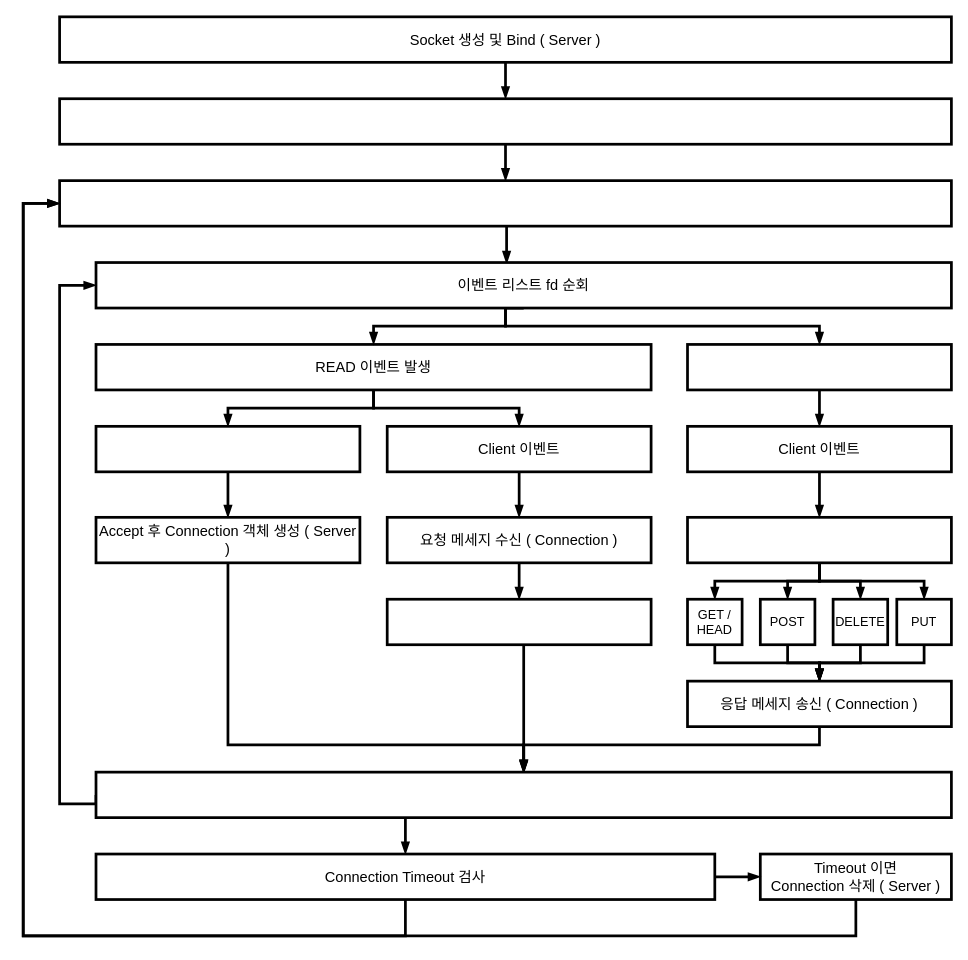
The diagram is 968 pixels wide and 960 high, and some of its shapes have lost their labels. The centre of each missing label's shape, as x and y in pixels:
"HTTP 메소드 종류 별 requestHandler 실행 ( ServerController )" belongs at (x=819, y=540).
"Listen ( Server )" belongs at (x=505, y=121).
"Server 이벤트" belongs at (x=227, y=449).
"WRITE 이벤트 발생" belongs at (x=819, y=367).
"요청 메세지 파싱 ( RequestMessageParser )" belongs at (x=518, y=621).
"이벤트 감지" belongs at (x=505, y=203).
"이벤트 리스트 순회 종료" belongs at (x=523, y=794).
